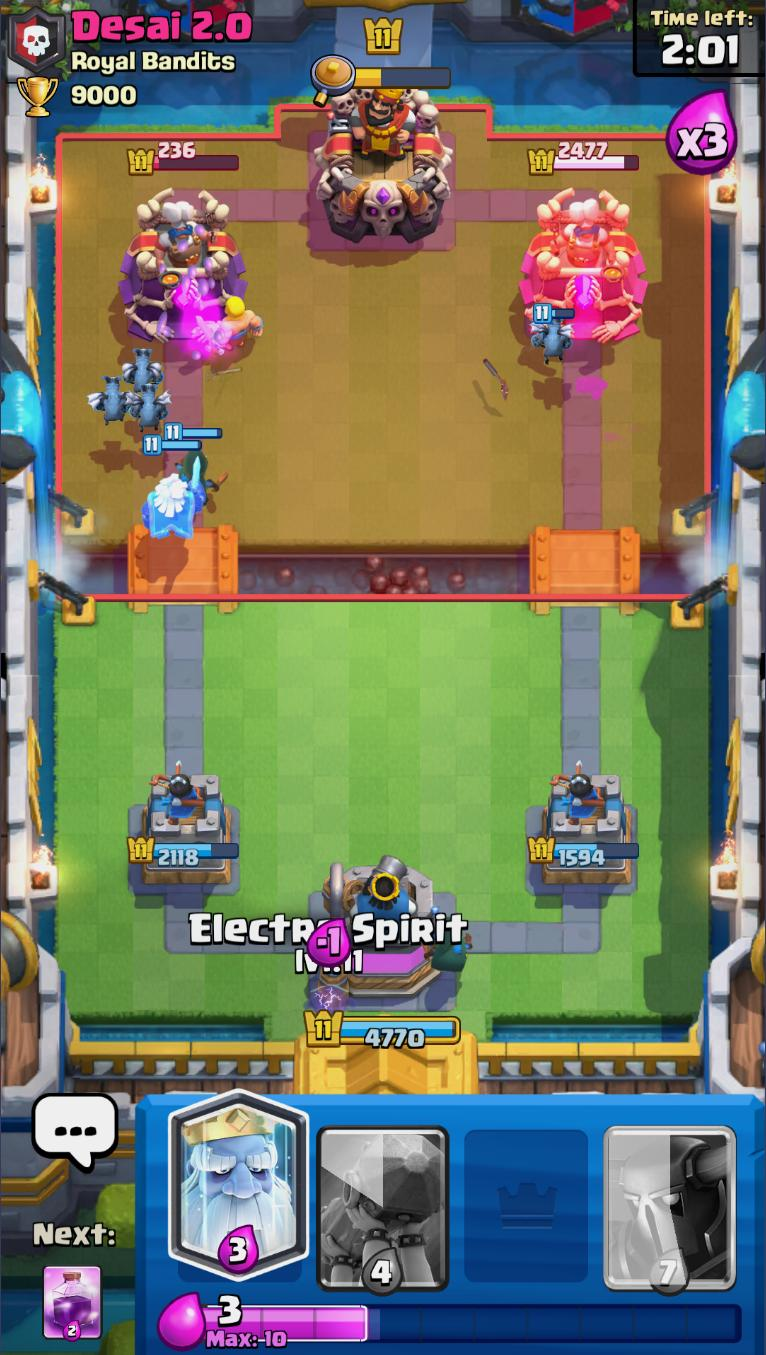BattleRamDeck: (310, 1100, 456, 1296)
Chef: (147, 199, 220, 270), (549, 201, 620, 269)
Elixir: (202, 1296, 742, 1349)
Empty: (453, 1100, 599, 1300)
EnemyTower: (119, 189, 249, 344), (520, 189, 649, 343)
KingTower: (314, 84, 456, 244)
MyBandit: (163, 420, 226, 507), (427, 913, 480, 974)
MyBarbarian: (197, 290, 267, 356)
MyKingHP: (301, 1004, 463, 1053)
MyKingTower: (311, 853, 461, 1009)
MyMinion: (86, 373, 137, 429), (530, 304, 573, 366), (120, 344, 169, 391), (127, 381, 173, 431)
MyPrincessTower: (127, 774, 240, 889), (529, 774, 641, 890)
MyPrincessTowerHP: (126, 833, 241, 869), (529, 833, 641, 867)
MyRoyaleGhost: (140, 431, 207, 537)
PekkaDeck: (599, 1100, 744, 1297)
RageNext: (41, 1261, 104, 1343)
RoyaleGhostDeck: (167, 1097, 313, 1290)
TowerPrincessHP: (529, 141, 641, 177), (129, 141, 241, 174)
